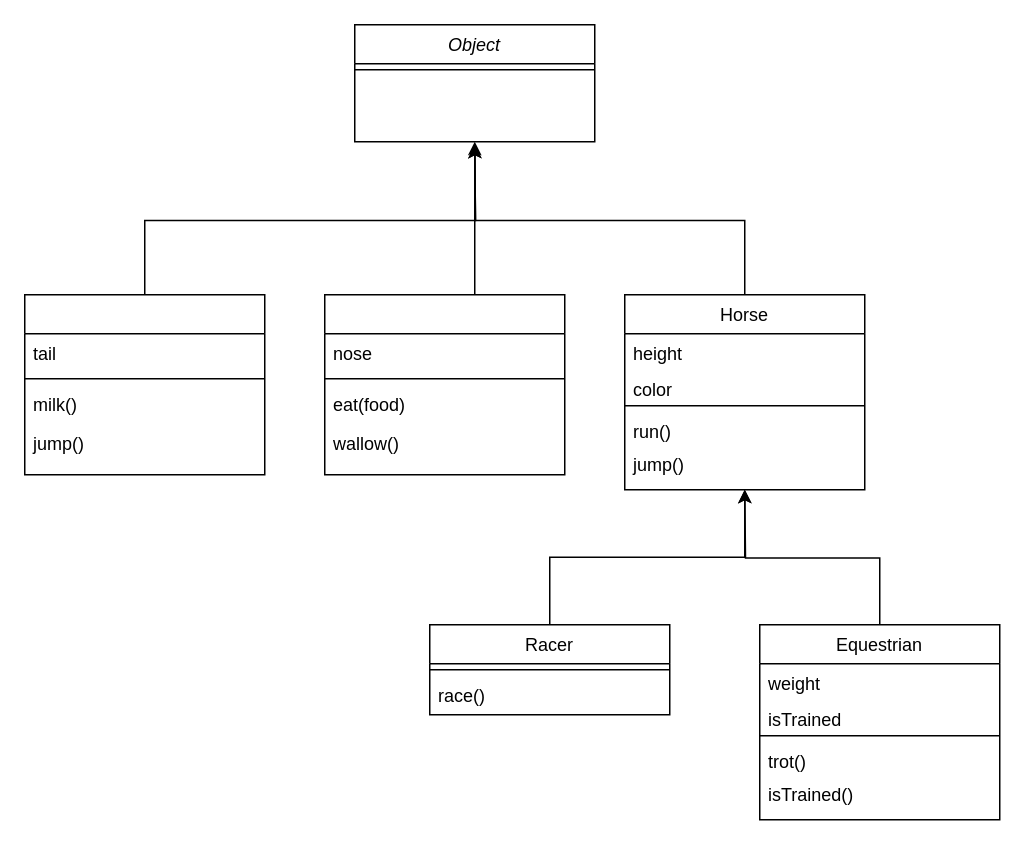
This 1025x845 diagram has some shape labels left out. Here are the shapes that lost their labels. From the top down, the box of each, then its label:
(23, 293, 265, 475): Goat
(323, 293, 565, 475): Pig
